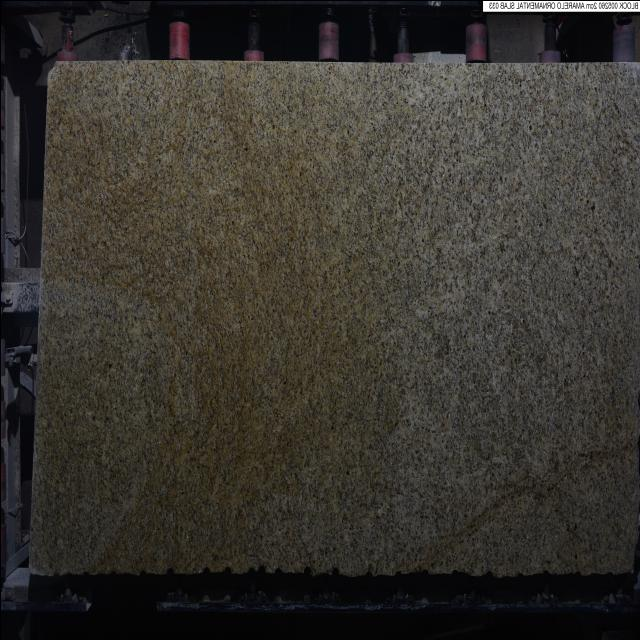chapa: (30, 60, 640, 576)
veio: (329, 563, 341, 581), (300, 564, 314, 579)
